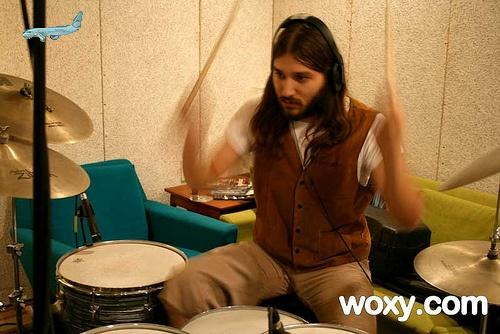tampered: (23, 12, 83, 42)
